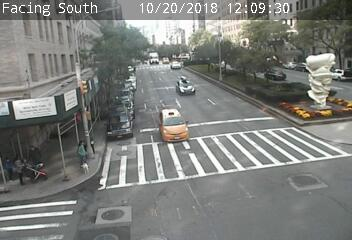car: (160, 108, 190, 144), (177, 75, 195, 96)
